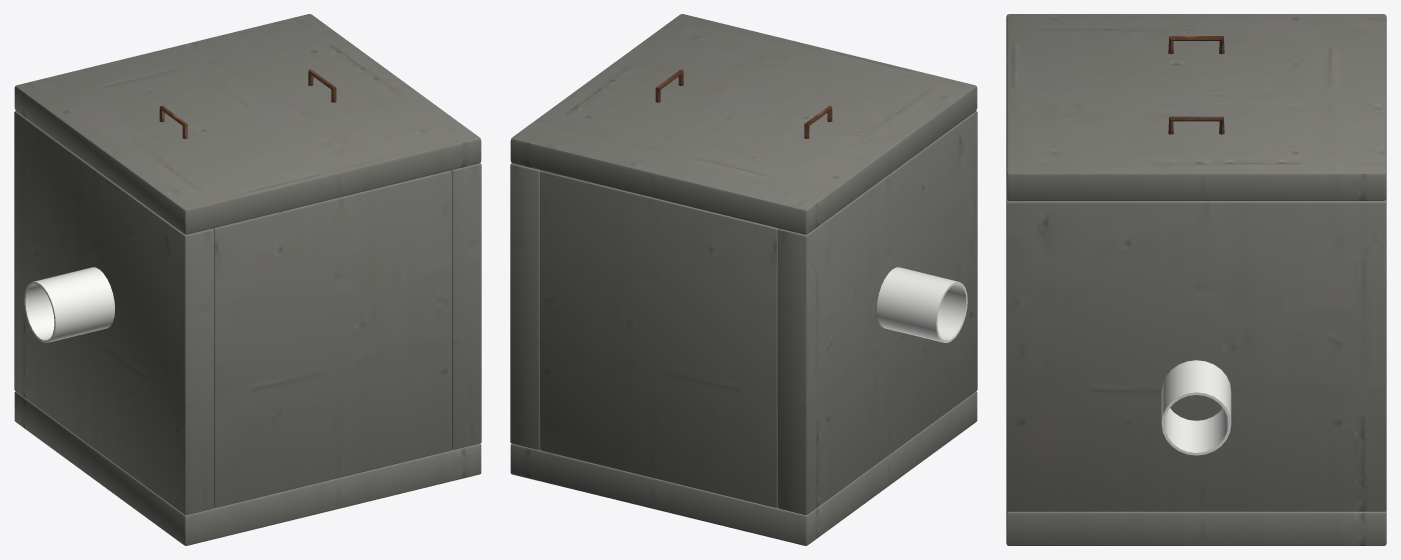
Rendered from HID-CXS-005_lod1.glb.
The picture shows the model from 3 angles, left to right: view 1: azimuth 30°, elevation 25°; view 2: azimuth 150°, elevation 25°; view 3: azimuth 270°, elevation 25°; orthographic projection. The views are drawn at different scales.
Visible parts, largest first — view 1: HID-CXS-005_py-1, HID-CXS-005_tampa, HID-CXS-005_px-1, HID-CXS-005_fundo, HID-CXS-005_px1, HID-CXS-005_ent; view 2: HID-CXS-005_py1, HID-CXS-005_tampa, HID-CXS-005_px-1, HID-CXS-005_fundo, HID-CXS-005_px1, HID-CXS-005_ent; view 3: HID-CXS-005_px1, HID-CXS-005_tampa, HID-CXS-005_fundo, HID-CXS-005_sai, HID-CXS-005_alca1.
Part boxes in pixels (x1,y1,x2,y2): HID-CXS-005_py-1: [213, 170, 451, 507]; HID-CXS-005_tampa: [14, 14, 481, 234]; HID-CXS-005_px-1: [14, 111, 214, 515]; HID-CXS-005_fundo: [14, 391, 481, 545]; HID-CXS-005_px1: [451, 163, 481, 449]; HID-CXS-005_ent: [24, 267, 114, 342]; HID-CXS-005_py1: [540, 170, 778, 507]; HID-CXS-005_tampa: [510, 14, 977, 234]; HID-CXS-005_px-1: [777, 111, 977, 515]; HID-CXS-005_fundo: [510, 391, 977, 545]; HID-CXS-005_px1: [510, 163, 540, 449]; HID-CXS-005_ent: [877, 267, 967, 342]; HID-CXS-005_px1: [1006, 198, 1386, 511]; HID-CXS-005_tampa: [1006, 14, 1386, 200]; HID-CXS-005_fundo: [1006, 510, 1386, 545]; HID-CXS-005_sai: [1161, 360, 1231, 455]; HID-CXS-005_alca1: [1168, 116, 1224, 134].
Bounding box in the file's own units: 0.84 × 0.6781 × 0.6.
Materials: 3 (2 with a texture image).
